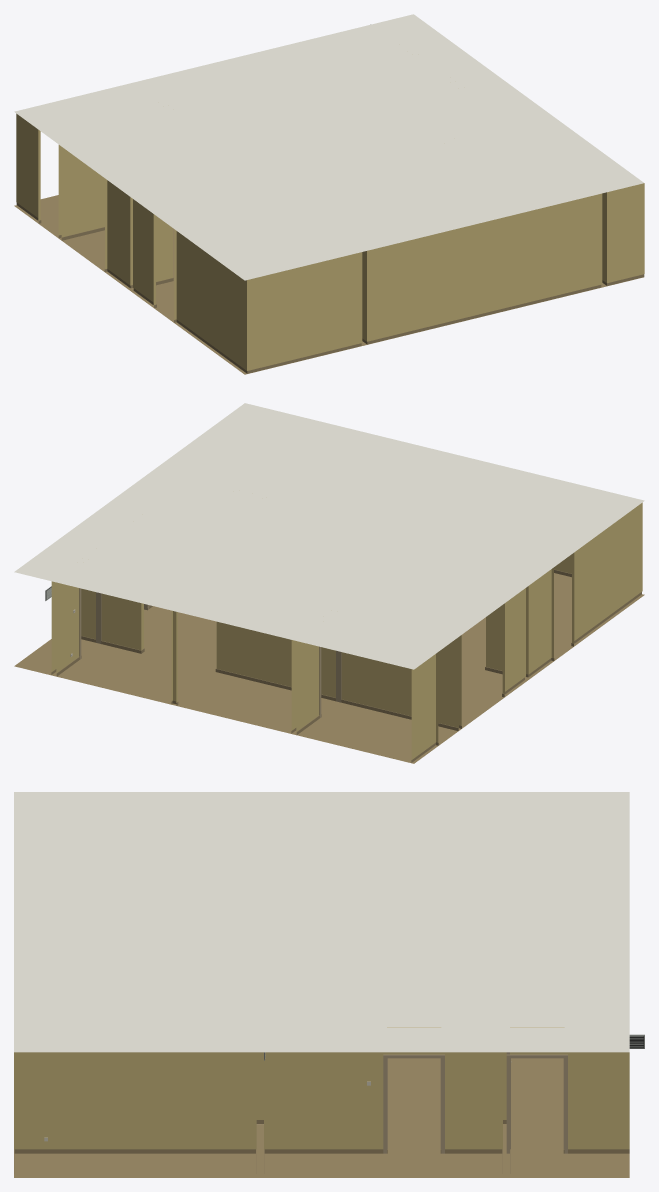
The model's file is chunk_2_5.glb.
3 views of the same model, one above another, from view 1: azimuth 30°, elevation 25°; view 2: azimuth 150°, elevation 25°; view 3: azimuth 270°, elevation 25° (orthographic). The views are drawn at different scales.
Visible parts, largest first — view 1: chunk_2_5; view 2: chunk_2_5; view 3: chunk_2_5.
Part boxes in pixels (box(x1,y1,x2,y2)): chunk_2_5: box(14, 14, 644, 374); chunk_2_5: box(14, 403, 644, 763); chunk_2_5: box(14, 792, 644, 1177).
Bounding box in the file's own units: 12.03 × 2.7 × 12.3.
